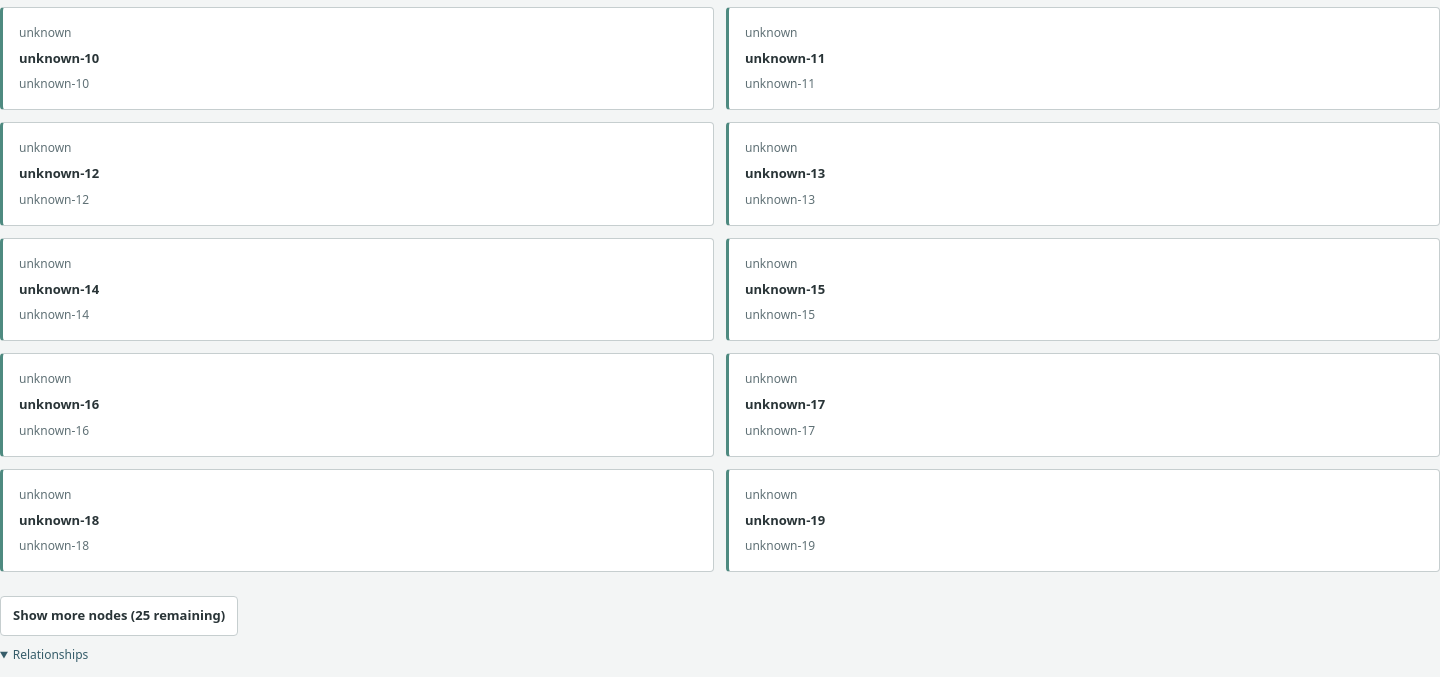
Test: progressively exposes large graphs and searches stable identities without arbitrary navigation
(page scrolled)
Click the button "Show more nodes (25 remaining)" at (119, 616), box [0,596,238,636]
(page scrolled)
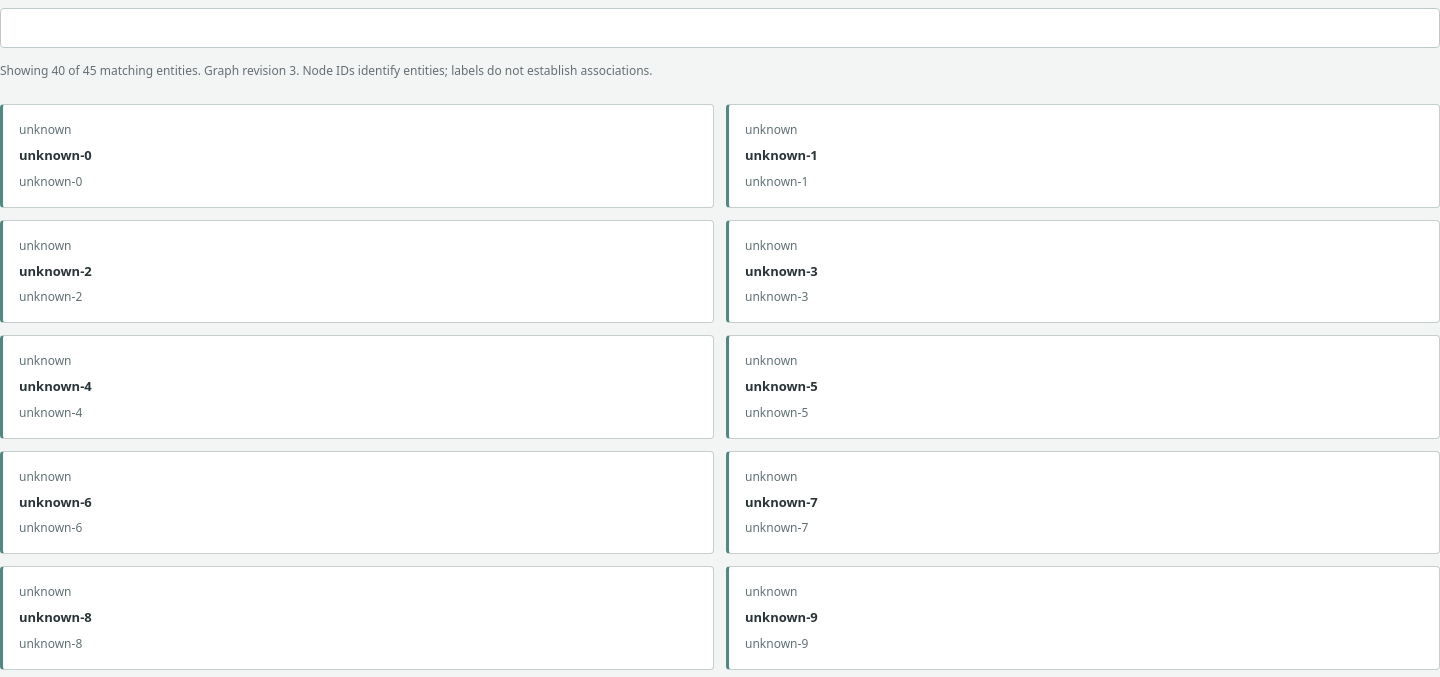
Check: the number of buttons named "Inspect unknown" is 40
Type "unknown-44" into the field labelled "Search graph" at (720, 28), box [0,8,1439,48]
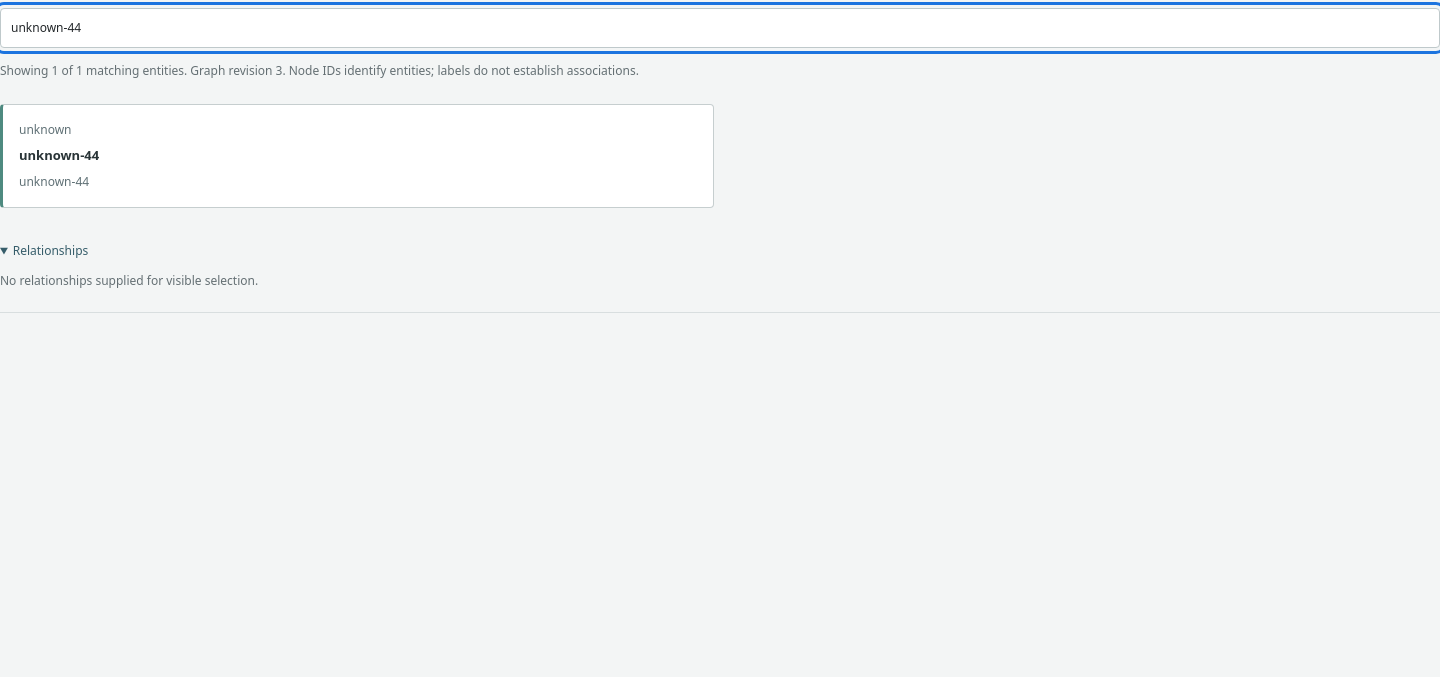
Click the button with aria-label "Inspect unknown unknown-44" at (45, 130), box [0,104,714,208]
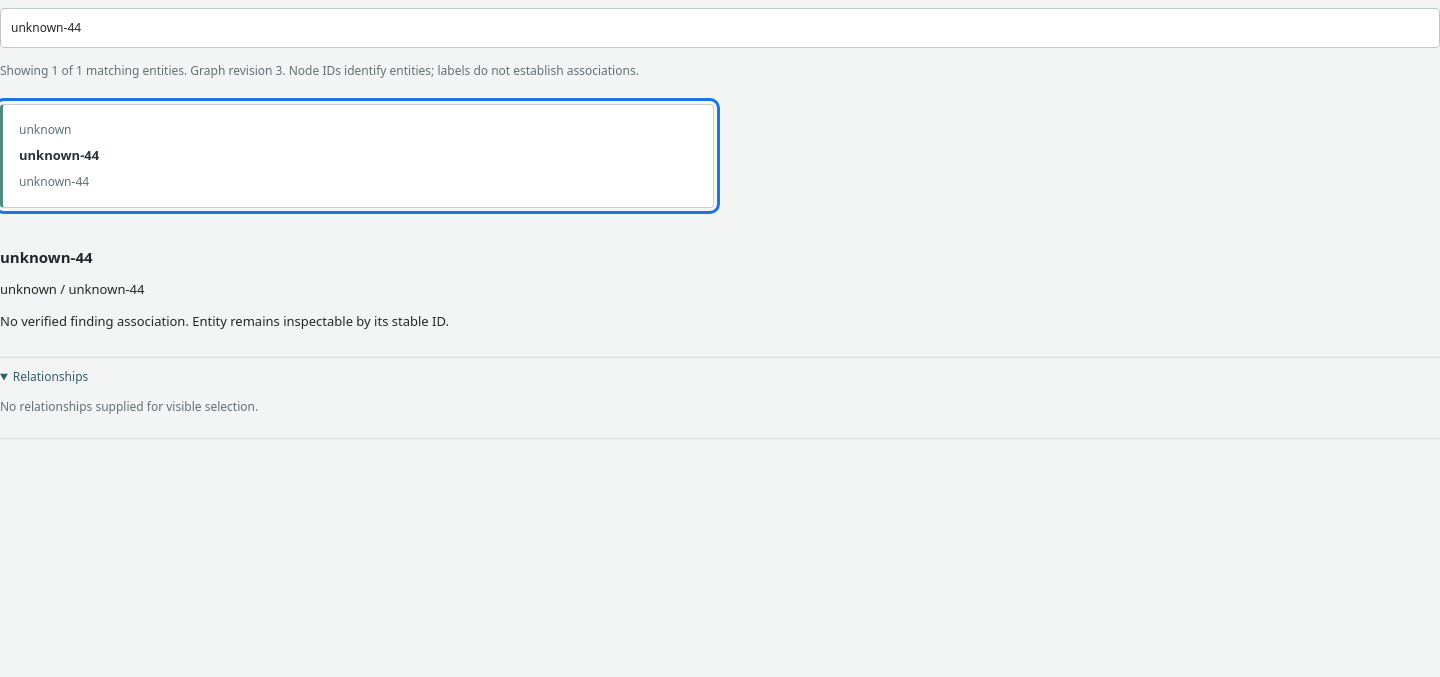
Check: the text "No verified finding association" is shown, box [0,312,449,330]
